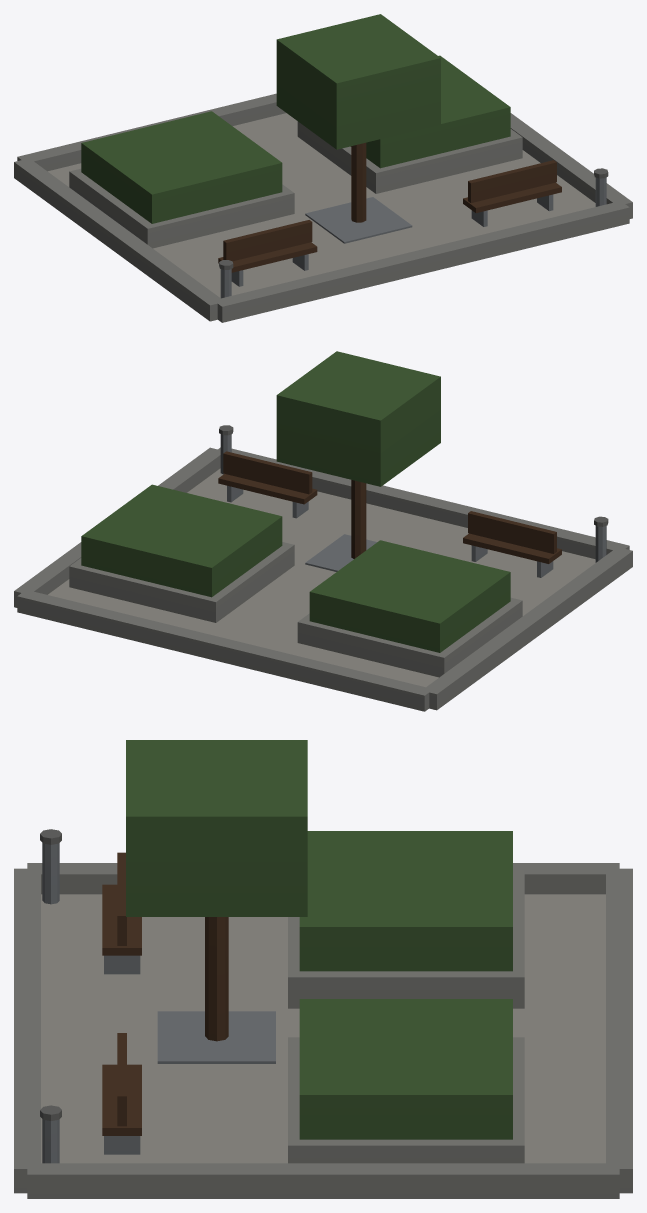
File: yard_city_green.glb
3 views of the same model, one above another, from view 1: azimuth 30°, elevation 25°; view 2: azimuth 150°, elevation 25°; view 3: azimuth 270°, elevation 25° (orthographic). The views are drawn at different scales.
Parts seen in each view (by area): view 1: prop; view 2: prop; view 3: prop.
Part boxes in pixels (<box>): prop: <box>14,14,632,322</box>; prop: <box>14,351,632,711</box>; prop: <box>14,740,632,1198</box>.
Size of the model in its own units: 9.34 by 3.7 by 7.84.
